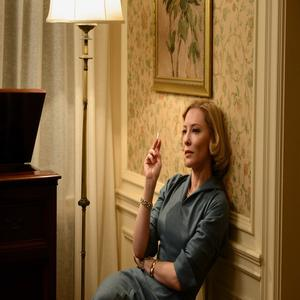cigarette: (157, 128, 160, 142)
